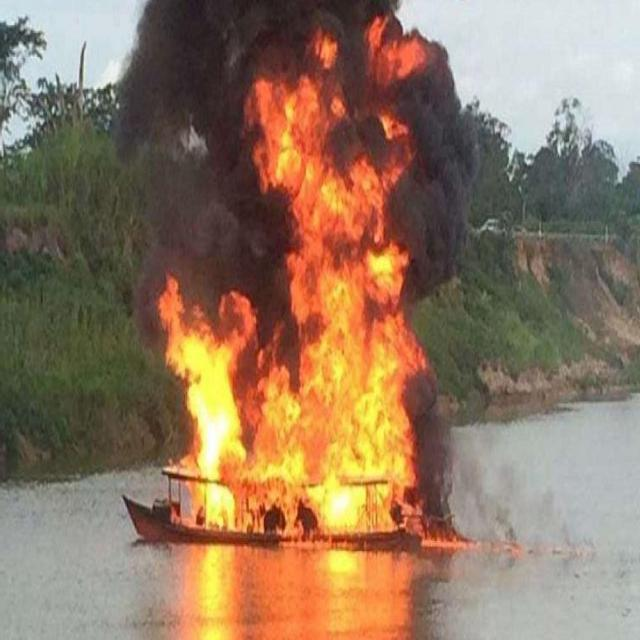Fire: (166, 17, 423, 516), (275, 529, 353, 549), (423, 534, 465, 550)
